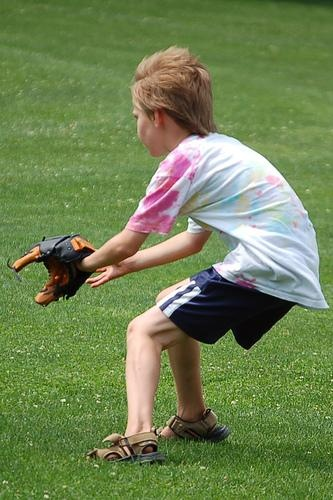person: (69, 42, 327, 480)
